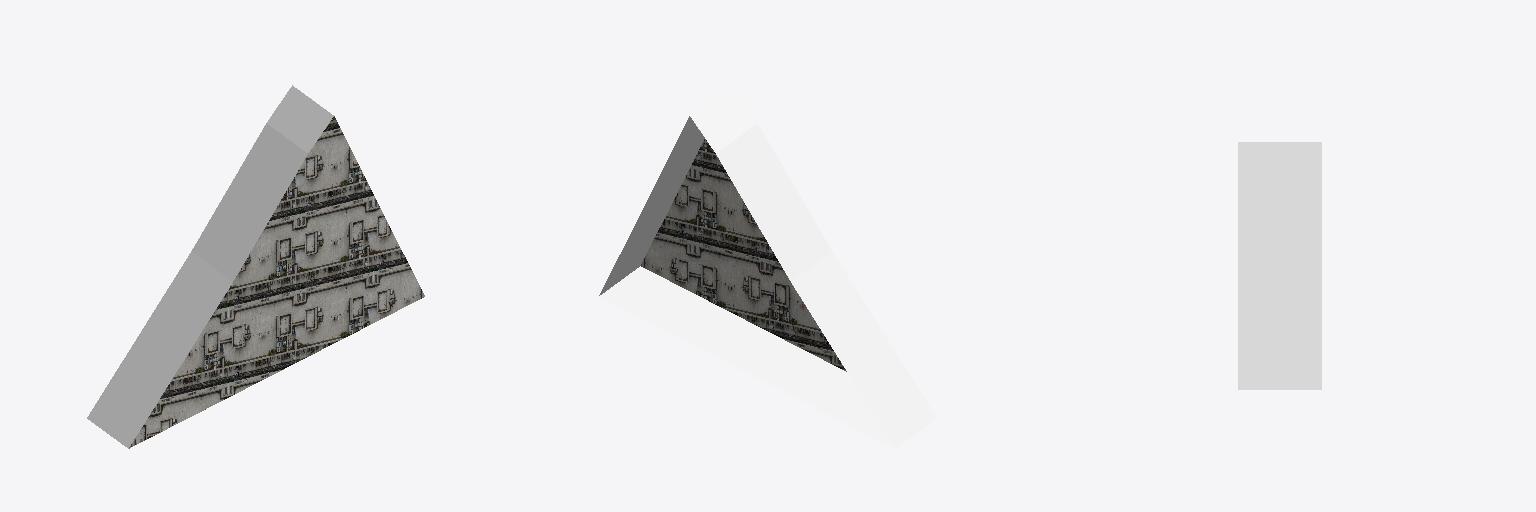
The picture shows the model from 3 angles: view 1: azimuth 30°, elevation 25°; view 2: azimuth 150°, elevation 25°; view 3: azimuth 270°, elevation 25°; orthographic projection.
Visible parts, largest first — view 1: Building; view 2: Building; view 3: Building.
Part boxes in pixels (bbox=[...]): Building: bbox=[87, 85, 424, 448]; Building: bbox=[599, 85, 936, 448]; Building: bbox=[1238, 142, 1321, 389].
Size of the model in its own units: 12.29 by 11.2 by 3.
2 materials, 1 textured.